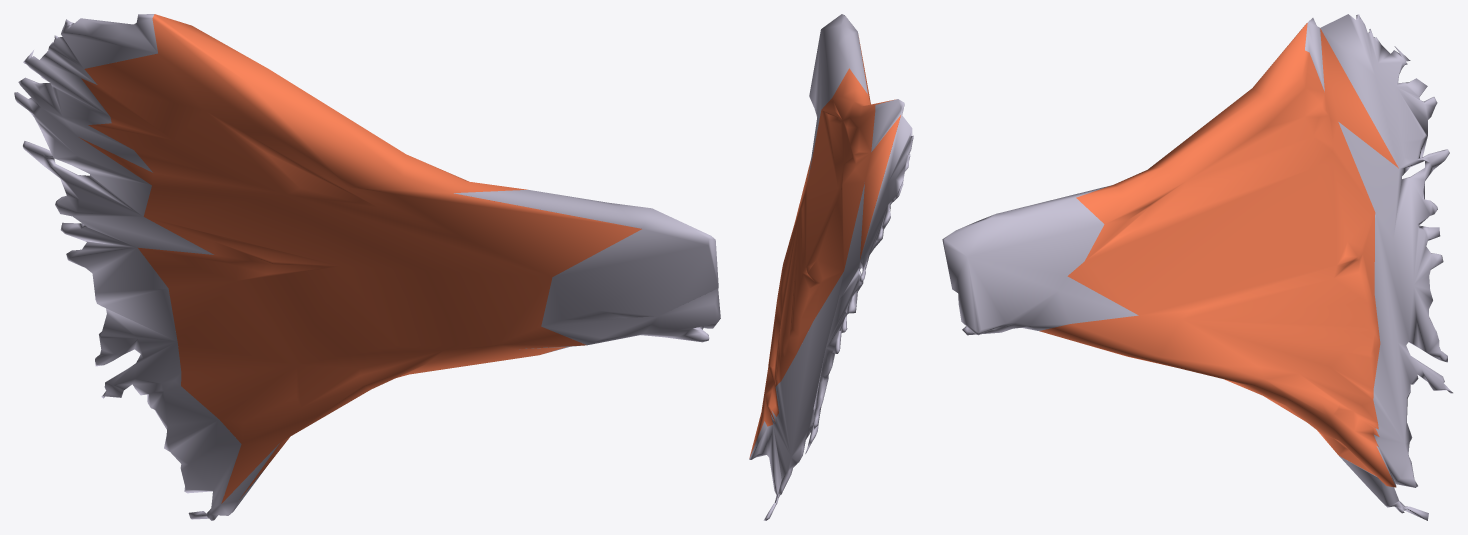
Rendered from Risorius.r_Generated_Mesh_From_X3D.239.glb.
3 renders of one model, left to right at view 1: azimuth 30°, elevation 25°; view 2: azimuth 150°, elevation 25°; view 3: azimuth 270°, elevation 25°, orthographic. The views are drawn at different scales.
Parts seen in each view (by area): view 1: Risorius.r_Generated_Mesh_From_X3D.239; view 2: Risorius.r_Generated_Mesh_From_X3D.239; view 3: Risorius.r_Generated_Mesh_From_X3D.239.
Boxes of the visible parts, <box> form: Risorius.r_Generated_Mesh_From_X3D.239: <box>14,14,720,520</box>; Risorius.r_Generated_Mesh_From_X3D.239: <box>749,14,913,520</box>; Risorius.r_Generated_Mesh_From_X3D.239: <box>942,14,1452,520</box>.
Size of the model in its own units: 0.0198 by 0.0271 by 0.0277.
